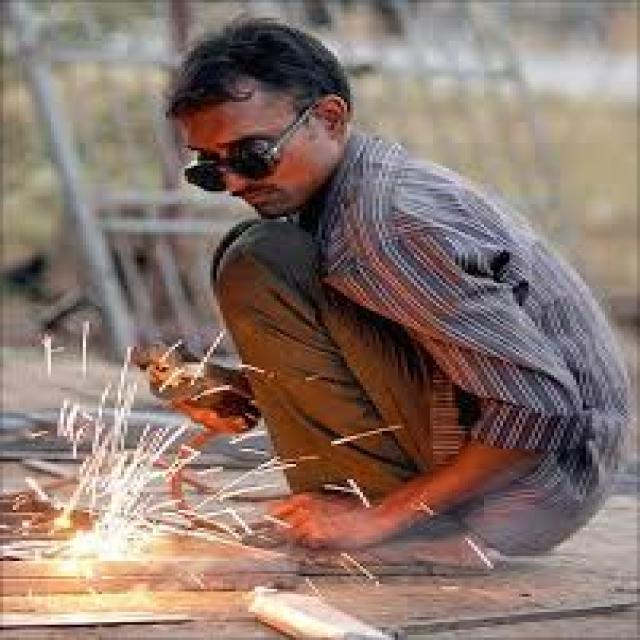without_helmet: (120, 29, 502, 261)
